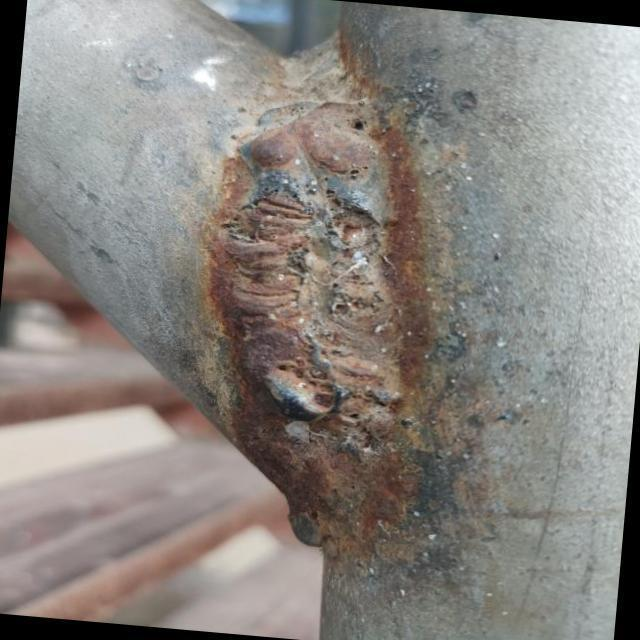defect: (227, 181, 306, 246), (316, 185, 388, 243), (274, 360, 336, 408), (276, 230, 312, 270), (326, 294, 371, 316), (341, 161, 373, 182), (344, 113, 371, 134), (341, 410, 365, 423), (371, 399, 390, 413)
